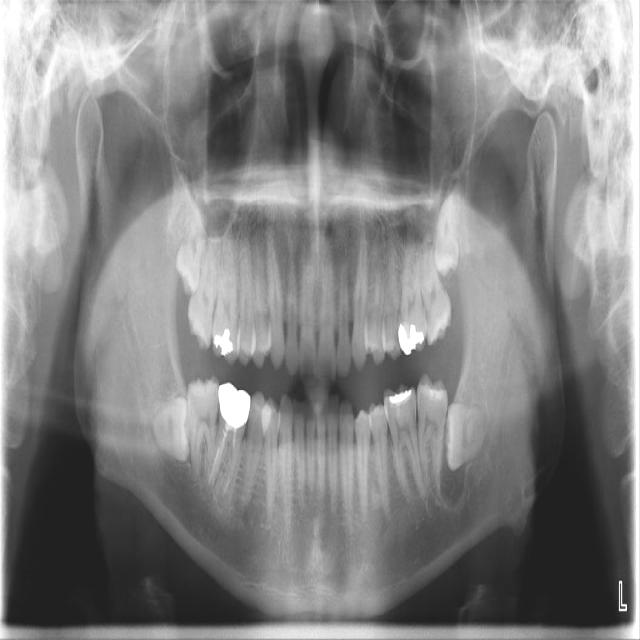Crown: (218, 383, 251, 428)
Filling: (397, 319, 424, 357), (385, 387, 415, 413), (211, 329, 236, 359)
Periapical lesion: (439, 468, 464, 504), (235, 485, 257, 516)
Root Canal Treatment: (210, 425, 232, 479), (222, 429, 237, 494)
impacted tooth: (174, 195, 208, 290), (446, 400, 489, 472), (434, 180, 462, 273), (151, 401, 188, 458)
